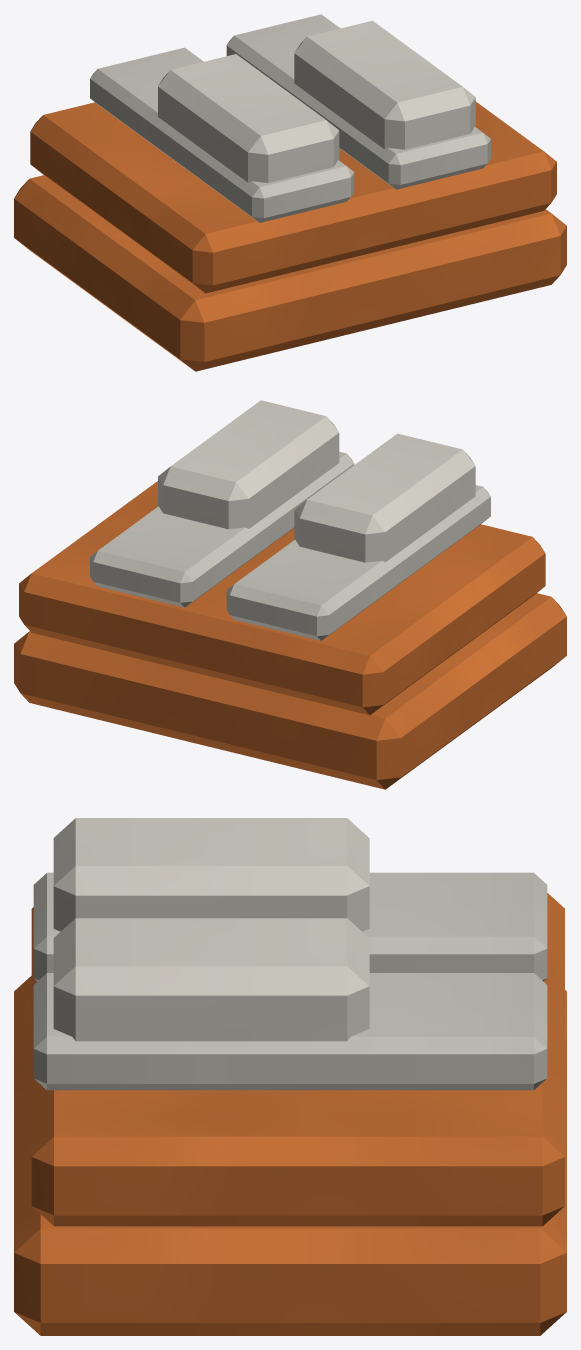
The model's file is uniform_folded.fbx.
3 renders of one model, top to bottom at view 1: azimuth 30°, elevation 25°; view 2: azimuth 150°, elevation 25°; view 3: azimuth 270°, elevation 25°, orthographic. The views are drawn at different scales.
Parts seen in each view (by area): view 1: uniform_folded; view 2: uniform_folded; view 3: uniform_folded.
Part boxes in pixels (box(x1,y1,x2,y2)): uniform_folded: box(14, 14, 566, 371); uniform_folded: box(14, 400, 566, 789); uniform_folded: box(14, 818, 566, 1335).
Size of the model in its own units: 0.34 by 0.175 by 0.28.
Materials: 1 (1 with a texture image).
